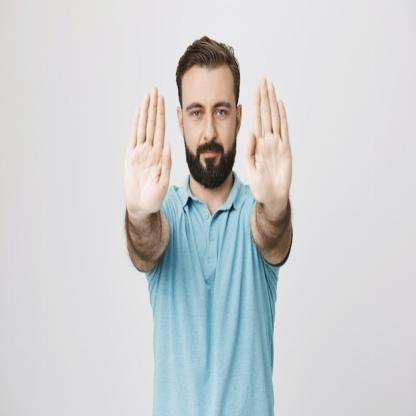stop: (120, 86, 175, 223), (242, 74, 296, 209)
